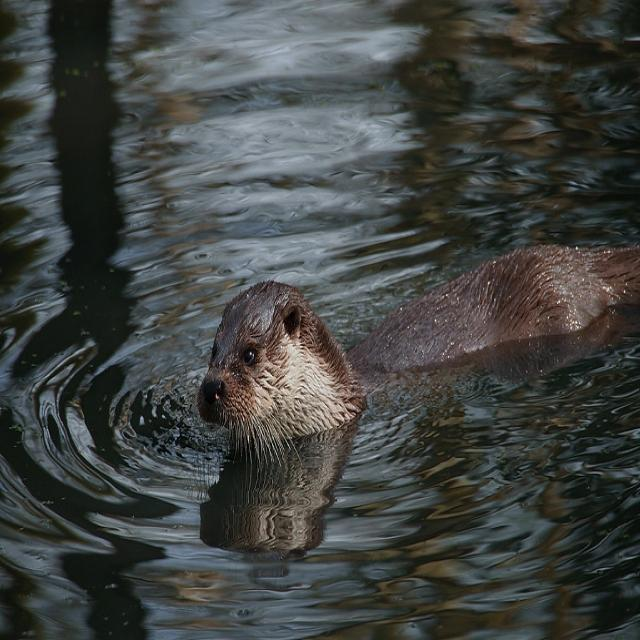otter: (203, 236, 608, 440)
